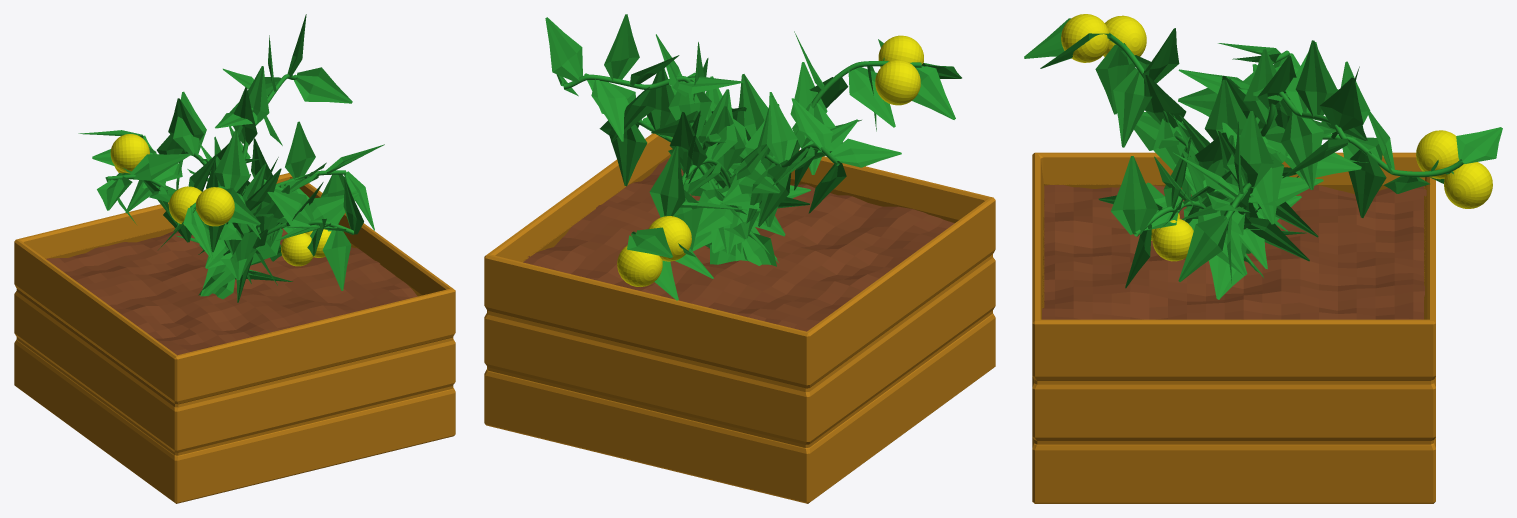
The model's file is Calamansi1x1.glb.
The picture shows the model from 3 angles, left to right: view 1: azimuth 30°, elevation 25°; view 2: azimuth 150°, elevation 25°; view 3: azimuth 270°, elevation 25°; orthographic projection. The views are drawn at different scales.
Parts seen in each view (by area): view 1: 1x1, BézierCurve, 1x1 Soil, Sphere.005, Sphere.001, Sphere.003, Sphere.006; view 2: 1x1, BézierCurve, 1x1 Soil, Sphere.006, Sphere.002, Sphere.001, Sphere.005; view 3: 1x1, BézierCurve, 1x1 Soil, Sphere.002, Sphere.005, Sphere.001, Sphere.004, Sphere.006.
Boxes of the visible parts, x1,y1,x2,y2 form: 1x1: [14, 173, 455, 503]; BézierCurve: [78, 14, 384, 302]; 1x1 Soil: [46, 228, 417, 355]; Sphere.005: [196, 187, 234, 226]; Sphere.001: [110, 134, 149, 173]; Sphere.003: [281, 233, 313, 266]; Sphere.006: [168, 186, 201, 225]; 1x1: [484, 133, 995, 503]; BézierCurve: [545, 14, 961, 300]; 1x1 Soil: [523, 158, 954, 331]; Sphere.006: [875, 60, 920, 105]; Sphere.002: [617, 245, 662, 286]; Sphere.001: [648, 216, 691, 261]; Sphere.005: [878, 35, 923, 67]; 1x1: [1032, 152, 1435, 503]; BézierCurve: [1024, 18, 1502, 299]; 1x1 Soil: [1042, 185, 1426, 319]; Sphere.002: [1444, 162, 1492, 208]; Sphere.005: [1061, 14, 1109, 62]; Sphere.001: [1416, 130, 1459, 179]; Sphere.004: [1152, 218, 1193, 261]; Sphere.006: [1103, 15, 1146, 56].
Size of the model in its own units: 1.01 by 1.15 by 1.19.
